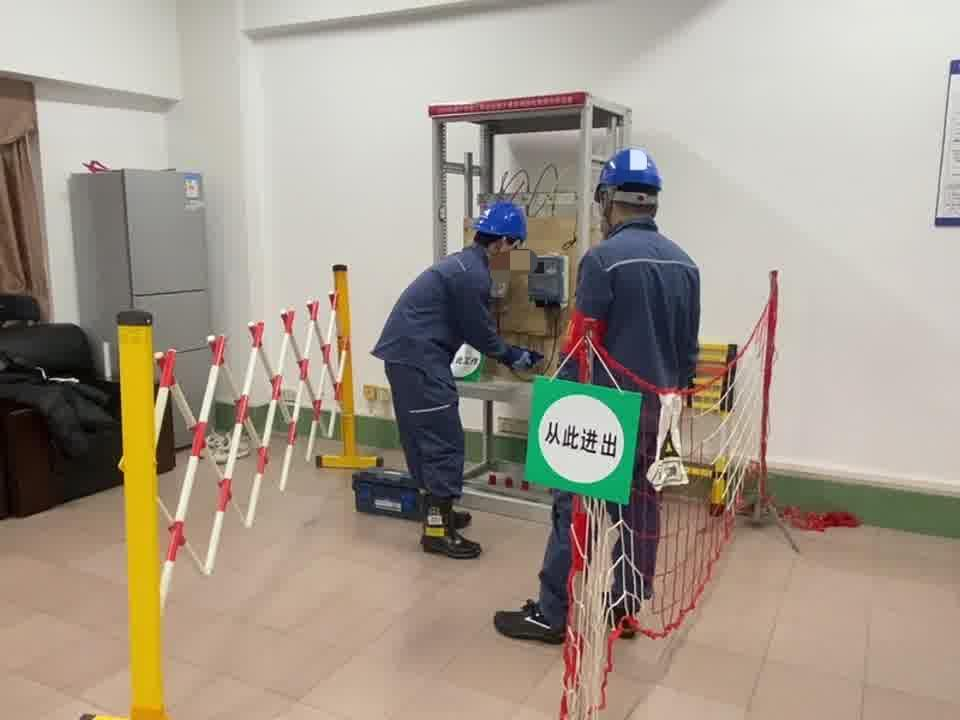halt: (596, 150, 668, 226), (476, 202, 532, 273)
inear: (493, 236, 522, 270)
